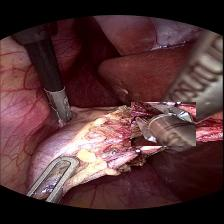Clipper: (131, 100, 196, 144)
Grasper: (27, 156, 80, 204), (44, 84, 74, 122)
